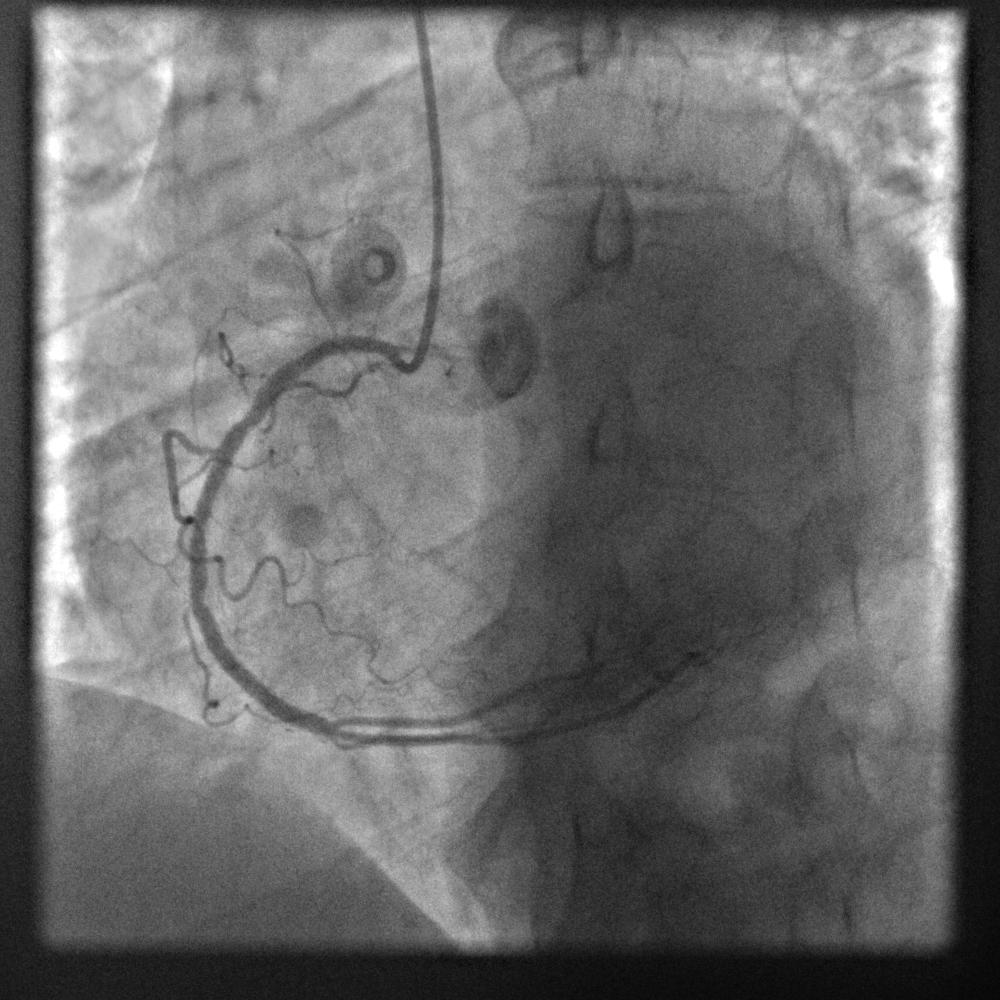Stenosis: (220, 395, 270, 448)
